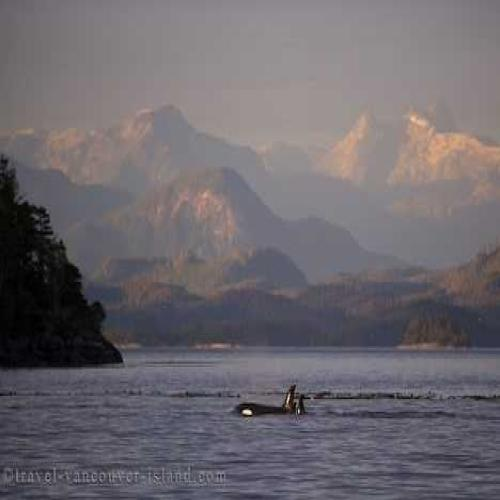killer_whale-endangered: (226, 378, 319, 432)
